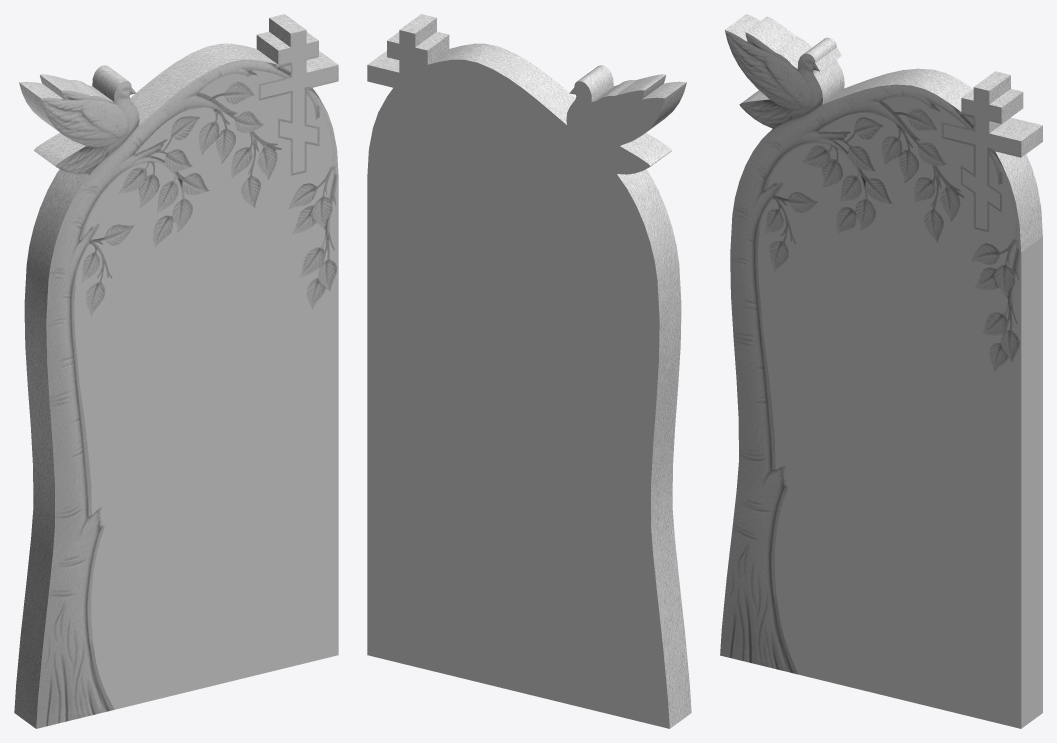
The model's file is cn4436aa2e7d_tkf.glb.
3 renders of one model, left to right at view 1: azimuth 30°, elevation 25°; view 2: azimuth 150°, elevation 25°; view 3: azimuth 330°, elevation 25°, orthographic.
Visible parts, largest first — view 1: Pam-d03-072, Pam-d03-072_2_notexture; view 2: Pam-d03-072, Pam-d03-072_2_notexture; view 3: Pam-d03-072, Pam-d03-072_2_notexture.
Boxes of the visible parts, x1=… form: Pam-d03-072: x1=74, y1=32, x2=338, y2=709; Pam-d03-072_2_notexture: x1=14, y1=14, x2=338, y2=728; Pam-d03-072: x1=367, y1=30, x2=669, y2=728; Pam-d03-072_2_notexture: x1=367, y1=14, x2=691, y2=728; Pam-d03-072: x1=758, y1=90, x2=1042, y2=728; Pam-d03-072_2_notexture: x1=720, y1=14, x2=1042, y2=674.
Bounding box in the file's own units: 0.4 × 0.8 × 0.05.
1 material, 1 textured.
